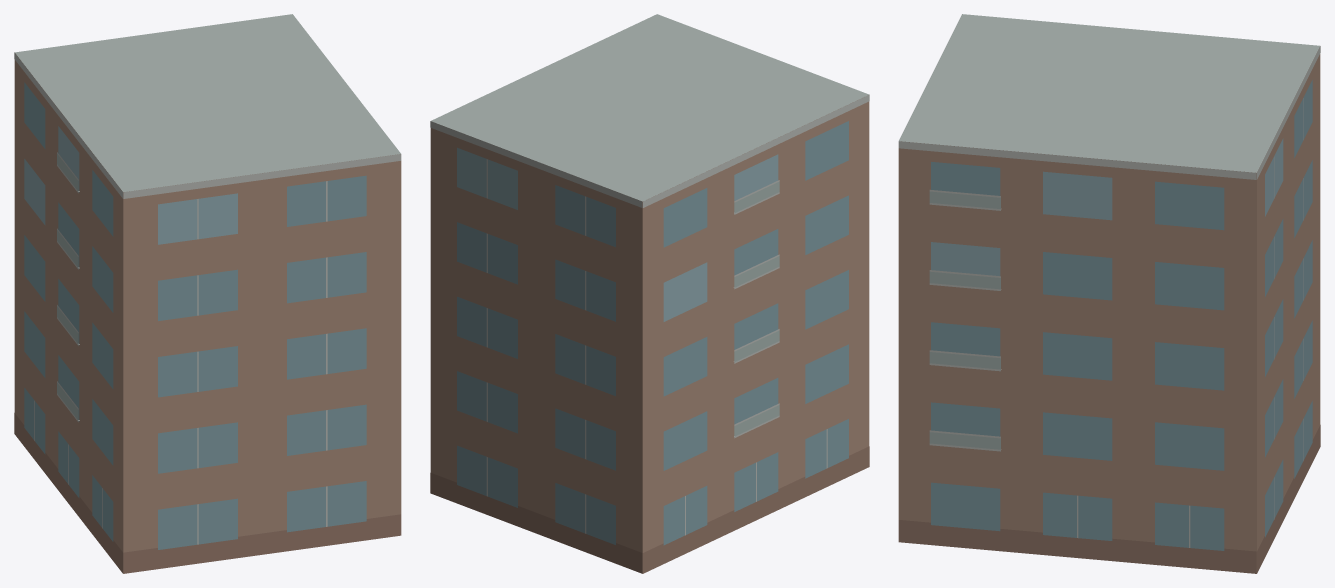
File: survey-upis-32750255.glb
The picture shows the model from 3 angles, left to right: view 1: azimuth 30°, elevation 25°; view 2: azimuth 150°, elevation 25°; view 3: azimuth 270°, elevation 25°; orthographic projection. The views are drawn at different scales.
Visible parts, largest first — view 1: survey-upis-32750255.tmp; view 2: survey-upis-32750255.tmp; view 3: survey-upis-32750255.tmp.
Part boxes in pixels (x1=…): survey-upis-32750255.tmp: x1=14, y1=14, x2=401, y2=573; survey-upis-32750255.tmp: x1=430, y1=14, x2=869, y2=573; survey-upis-32750255.tmp: x1=898, y1=14, x2=1320, y2=573.
Bounding box in the file's own units: 11.56 × 13.6 × 12.98.
